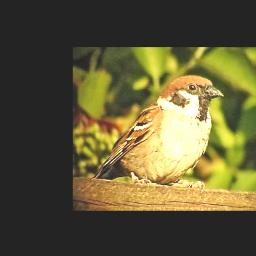Sparrow: (93, 73, 226, 193)
